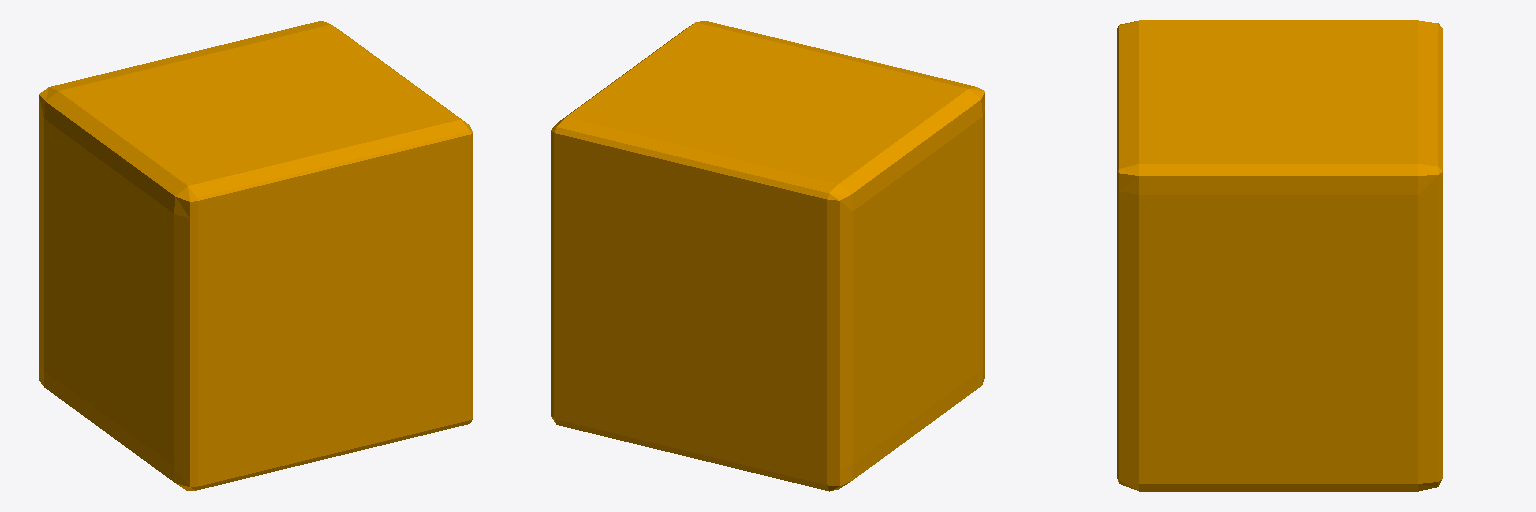
The robot description file, URDF, robot "cylinder_box_94":
<?xml version="1.0" encoding="utf-8"?>  <robot name="cylinder_box_94">   <link name="cylinder_box_94">     <visual>       <geometry>         <mesh filename="../meshes/box/box_94.stl" scale="1 1 1"/>       </geometry>     </visual>     <collision>       <geometry>         <mesh filename="../meshes/box/box_94.stl" scale="1 1 1"/>       </geometry>     </collision>     <inertial>        <origin         xyz="0 0 0"         rpy="0 0 0" />       <mass value="0.678440412629063"/>       <origin rpy="0 0 0" xyz="0 0 0"/>       <inertia ixx="0.0008342867608434627" ixy="2.3057794926900863e-08" ixz="2.737598191882124e-08" iyy="0.0009387897226480865" iyz="5.718775984576024e-09" izz="0.0008487326954830665"/>     </inertial>   </link>  </robot>

--- Render facts (derived) ---
Views: 3 orthographic renders of the robot side by side, from view 1: azimuth 30°, elevation 25°; view 2: azimuth 150°, elevation 25°; view 3: azimuth 270°, elevation 25°.
Robot: cylinder_box_94 — 1 links, 0 joints (none); root link cylinder_box_94; default pose: every joint at zero.
Links seen in each view (by area): view 1: cylinder_box_94; view 2: cylinder_box_94; view 3: cylinder_box_94.
Link boxes in pixels (bbox=[...]): cylinder_box_94: bbox=[39, 21, 472, 490]; cylinder_box_94: bbox=[551, 21, 984, 491]; cylinder_box_94: bbox=[1117, 20, 1442, 491].
Bounding box of the posed robot: 0.0923 × 0.0816 × 0.0909 m (x, y, z).
1 mesh visuals loaded from 1 distinct referenced files (1 binary STL).